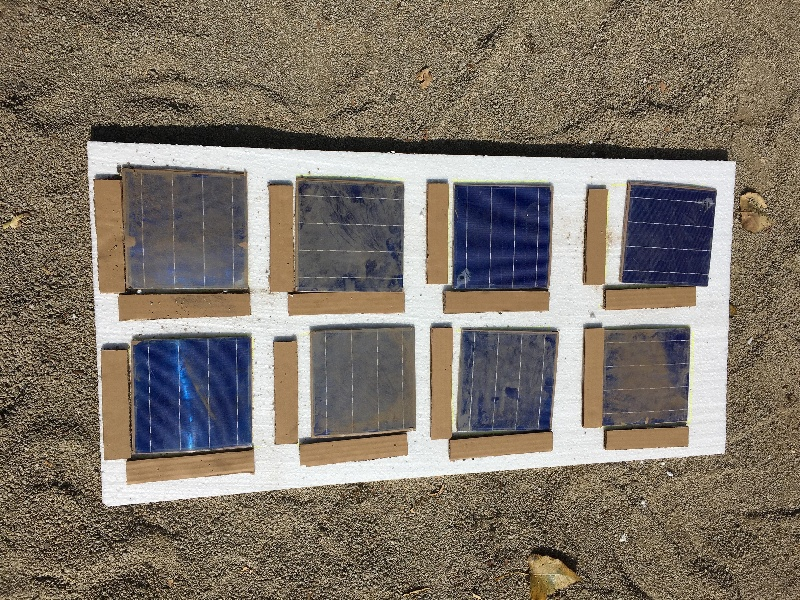clean: (129, 341, 255, 452), (449, 184, 556, 292), (619, 183, 713, 288)
dirty: (116, 166, 253, 292), (294, 181, 409, 295), (304, 327, 414, 434), (462, 326, 557, 431), (602, 327, 693, 425)
